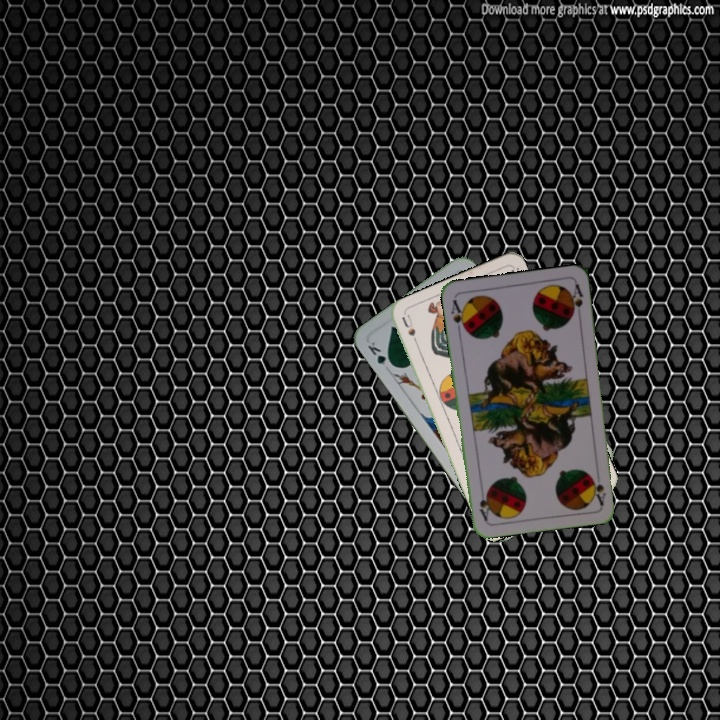GK: (363, 338, 396, 370)
SA: (447, 295, 469, 335), (589, 475, 608, 508)
SU: (398, 312, 422, 351)
